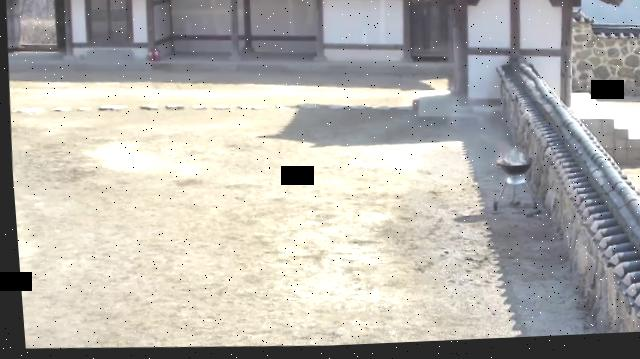smoke: (499, 150, 524, 170)
